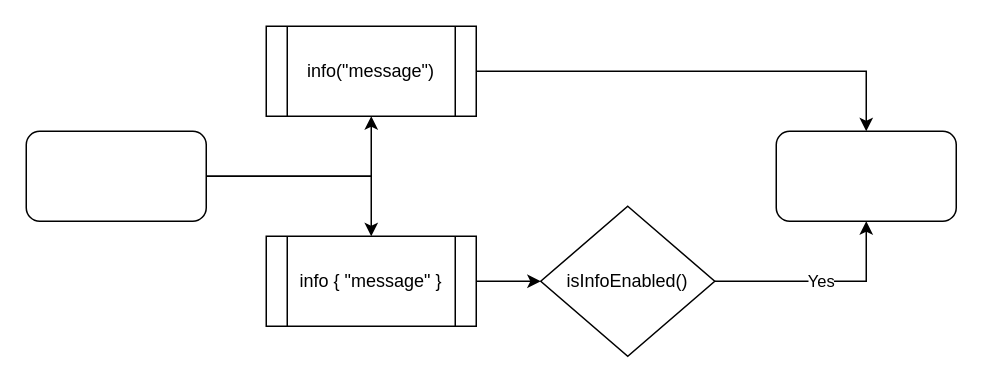
This 983x383 diagram has some shape labels left out. The centre of each missing label's shape, as x and y in pixels:
"Dispatcher" belongs at point (865, 175).
"Logger @ INFO" belongs at point (115, 175).
